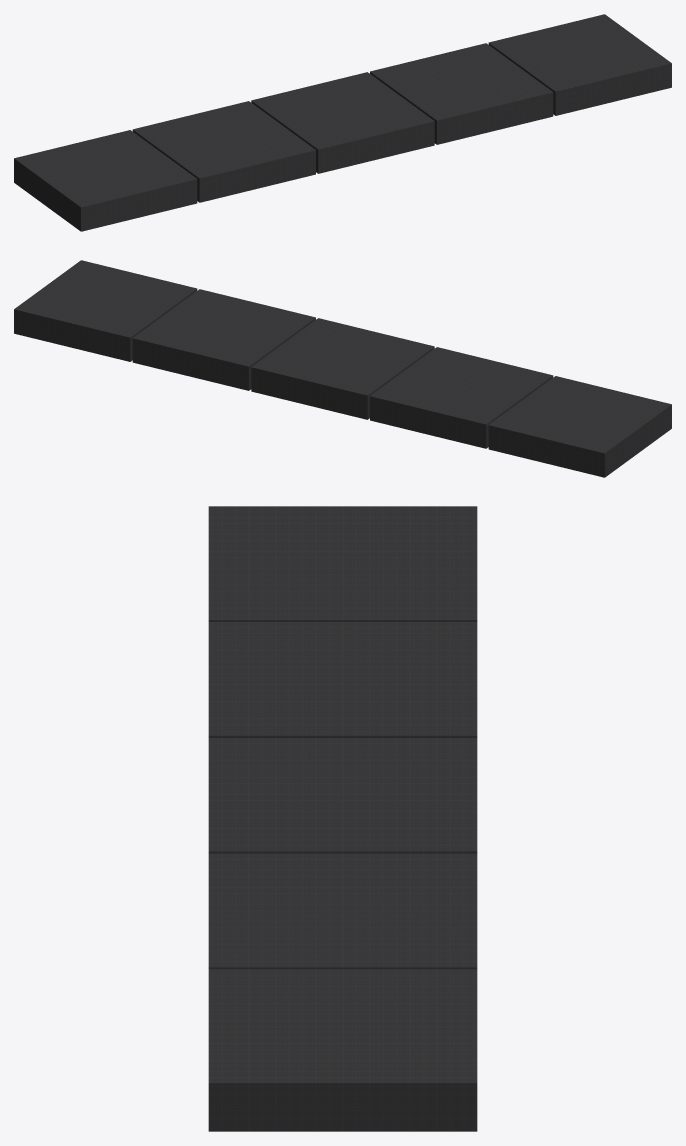
Rendered from rooms.gltf.
3 views of the same model, one above another, from view 1: azimuth 30°, elevation 25°; view 2: azimuth 150°, elevation 25°; view 3: azimuth 270°, elevation 25° (orthographic). The views are drawn at different scales.
Parts seen in each view (by area): view 1: room_01, room_04, room_02, room_05, room_03; view 2: room_01, room_04, room_02, room_05, room_03; view 3: room_05, room_04, room_02, room_03, room_01.
Boxes of the visible parts, bbox=[...] form: room_01: bbox=[14, 130, 197, 231]; room_04: bbox=[370, 43, 553, 144]; room_02: bbox=[132, 101, 315, 202]; room_05: bbox=[488, 14, 671, 115]; room_03: bbox=[251, 72, 434, 173]; room_01: bbox=[488, 376, 671, 477]; room_04: bbox=[132, 289, 315, 390]; room_02: bbox=[370, 347, 553, 448]; room_05: bbox=[14, 260, 197, 361]; room_03: bbox=[251, 318, 434, 419]; room_05: bbox=[208, 969, 477, 1131]; room_04: bbox=[208, 853, 477, 969]; room_02: bbox=[208, 622, 477, 737]; room_03: bbox=[208, 738, 477, 853]; room_01: bbox=[208, 506, 477, 621].
Size of the model in its own units: 508 by 25.74 by 100.
Materials: 7 (6 with a texture image).
